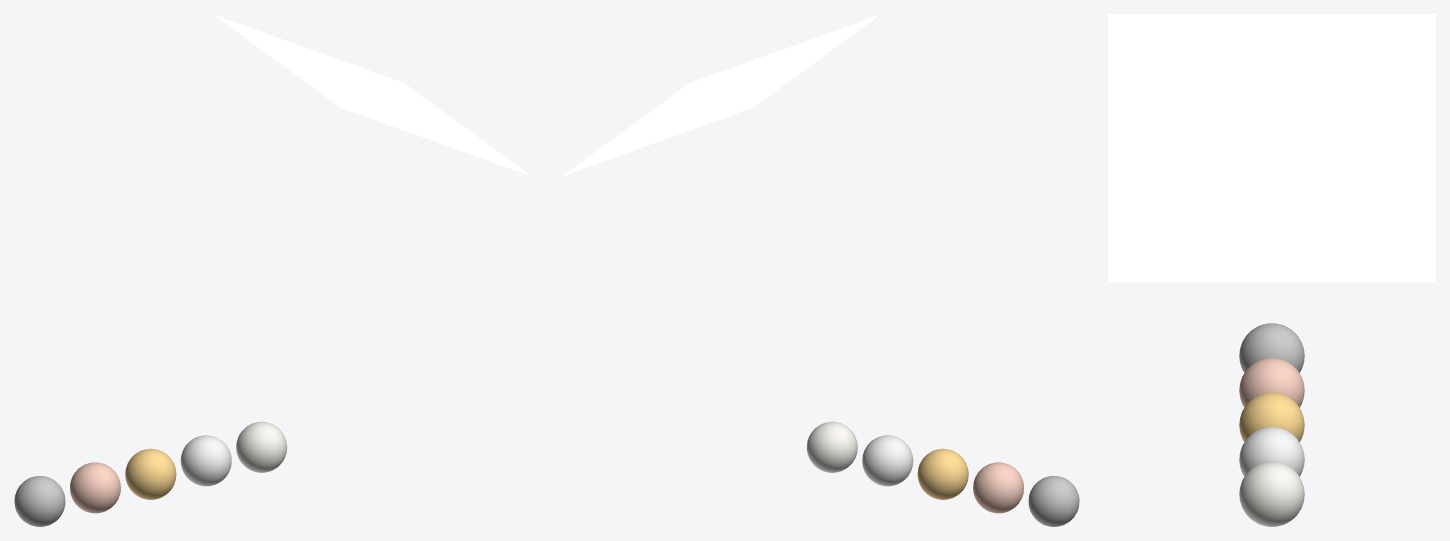
File: metals.gltf
The picture shows the model from 3 angles, left to right: view 1: azimuth 30°, elevation 25°; view 2: azimuth 150°, elevation 25°; view 3: azimuth 270°, elevation 25°; orthographic projection. The views are drawn at different scales.
Visible parts, largest first — view 1: AreaLight, AluminiumSphere, GoldSphere, CopperSphere, IronSphere, SilverSphere; view 2: AreaLight, AluminiumSphere, GoldSphere, CopperSphere, IronSphere, SilverSphere; view 3: AreaLight, SilverSphere, CopperSphere, IronSphere, AluminiumSphere, GoldSphere.
Boxes of the visible parts, x1,y1,x2,y2 form: AreaLight: [213, 14, 531, 176]; AluminiumSphere: [180, 435, 231, 486]; GoldSphere: [125, 448, 176, 499]; CopperSphere: [70, 462, 120, 513]; IronSphere: [14, 476, 65, 526]; SilverSphere: [236, 421, 287, 472]; AreaLight: [562, 14, 880, 176]; AluminiumSphere: [862, 435, 913, 486]; GoldSphere: [917, 448, 968, 499]; CopperSphere: [973, 462, 1023, 513]; IronSphere: [1028, 476, 1079, 526]; SilverSphere: [806, 421, 857, 472]; AreaLight: [1108, 14, 1435, 282]; SilverSphere: [1239, 461, 1304, 526]; CopperSphere: [1239, 358, 1304, 407]; IronSphere: [1239, 323, 1304, 372]; AluminiumSphere: [1239, 427, 1304, 476]; GoldSphere: [1239, 392, 1304, 441].
Size of what is drawn, in the model's own units: 4.07 by 3.5 by 2.
